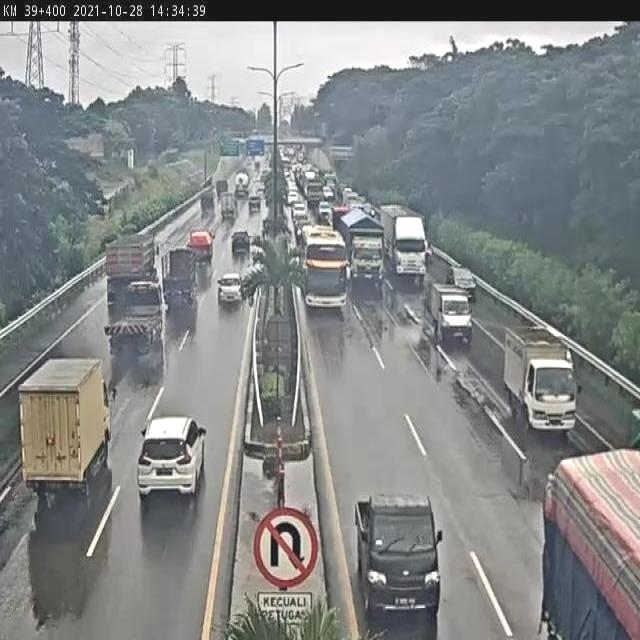Car: (127, 379, 221, 520), (447, 266, 476, 301), (217, 271, 244, 305), (231, 230, 251, 256)
Truck: (540, 452, 640, 640), (18, 358, 112, 507), (355, 492, 443, 634), (503, 326, 576, 434), (106, 280, 165, 359), (302, 226, 351, 311), (379, 205, 428, 289), (104, 233, 156, 310), (424, 282, 473, 351), (254, 420, 309, 470), (163, 246, 200, 314), (337, 206, 382, 261), (383, 274, 424, 333), (312, 315, 348, 376), (349, 232, 385, 292), (239, 256, 269, 300), (297, 223, 322, 266), (186, 230, 213, 265), (204, 135, 222, 179), (538, 606, 562, 639), (306, 224, 340, 246), (418, 320, 433, 367), (331, 202, 353, 234), (304, 175, 324, 210), (267, 209, 290, 239), (511, 306, 539, 330), (381, 277, 397, 319), (262, 448, 282, 481), (625, 407, 640, 450), (425, 331, 438, 379), (165, 158, 196, 178), (293, 166, 311, 197), (293, 209, 311, 236), (289, 240, 304, 272), (434, 343, 446, 383), (220, 191, 236, 220), (329, 130, 353, 149), (280, 100, 294, 132), (200, 189, 215, 217), (328, 145, 354, 160), (220, 133, 237, 154), (250, 244, 266, 266), (292, 136, 324, 147), (101, 233, 119, 252), (318, 201, 333, 223), (96, 197, 111, 218), (352, 201, 376, 214), (248, 137, 264, 156), (323, 173, 338, 193), (376, 313, 386, 342), (234, 180, 249, 198), (285, 178, 297, 200), (248, 193, 261, 213), (107, 283, 118, 306), (262, 217, 274, 238), (303, 170, 317, 188), (292, 200, 306, 218), (250, 233, 264, 250), (349, 192, 366, 206), (259, 173, 270, 194), (216, 179, 228, 198), (292, 163, 303, 183), (201, 176, 213, 194), (367, 206, 381, 220), (300, 164, 312, 180), (161, 148, 178, 159), (322, 186, 334, 201), (262, 166, 272, 184), (444, 266, 454, 284), (109, 380, 118, 400), (280, 185, 289, 204), (267, 150, 276, 168), (237, 138, 246, 156), (280, 149, 288, 169), (89, 151, 105, 161), (284, 146, 295, 160), (283, 166, 292, 183), (235, 173, 244, 188), (128, 148, 134, 170), (336, 184, 344, 200), (262, 192, 268, 212), (565, 348, 573, 363), (264, 141, 274, 152), (343, 187, 353, 197), (245, 155, 254, 166), (254, 158, 261, 171), (252, 129, 263, 137), (297, 152, 304, 163), (275, 415, 282, 424), (156, 244, 160, 255), (212, 230, 216, 240)
